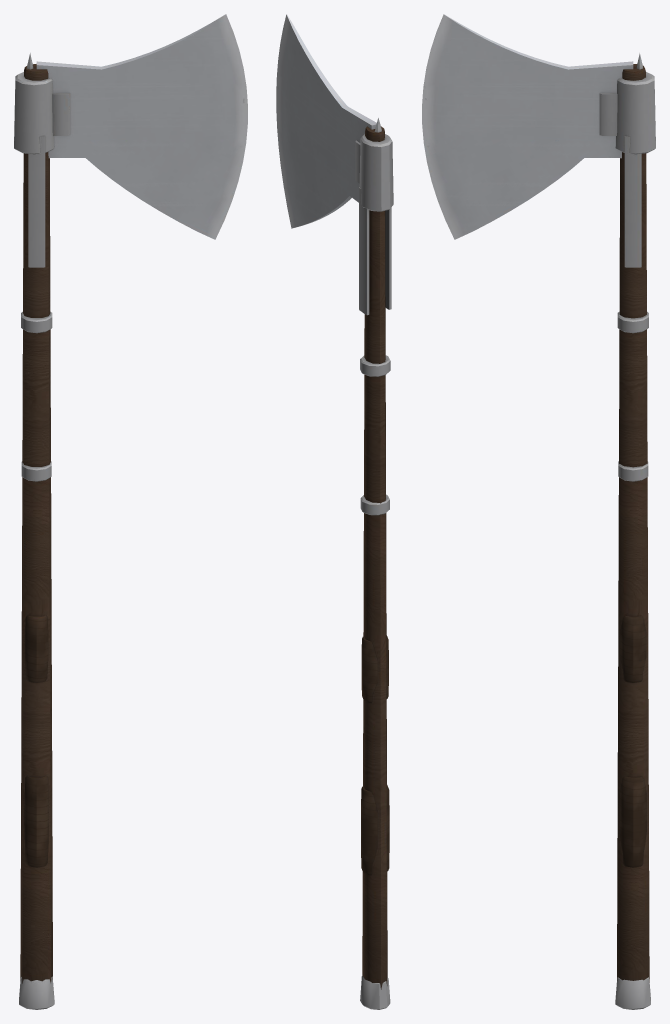
Rendered from daneaxe.glb.
The picture shows the model from 3 angles, left to right: view 1: azimuth 90°, elevation 25°; view 2: azimuth 210°, elevation 25°; view 3: azimuth 270°, elevation 25°; orthographic projection. The views are drawn at different scales.
Visible parts, largest first — view 1: SM_V_daneaxe; view 2: SM_V_daneaxe; view 3: SM_V_daneaxe.
Part boxes in pixels (box(x1,y1,x2,y2)): SM_V_daneaxe: box(14, 14, 247, 1009); SM_V_daneaxe: box(276, 14, 393, 1009); SM_V_daneaxe: box(422, 14, 655, 1009).
Bounding box in the file's own units: 0.0532 × 1.67 × 0.3566.
1 material, 1 textured.
